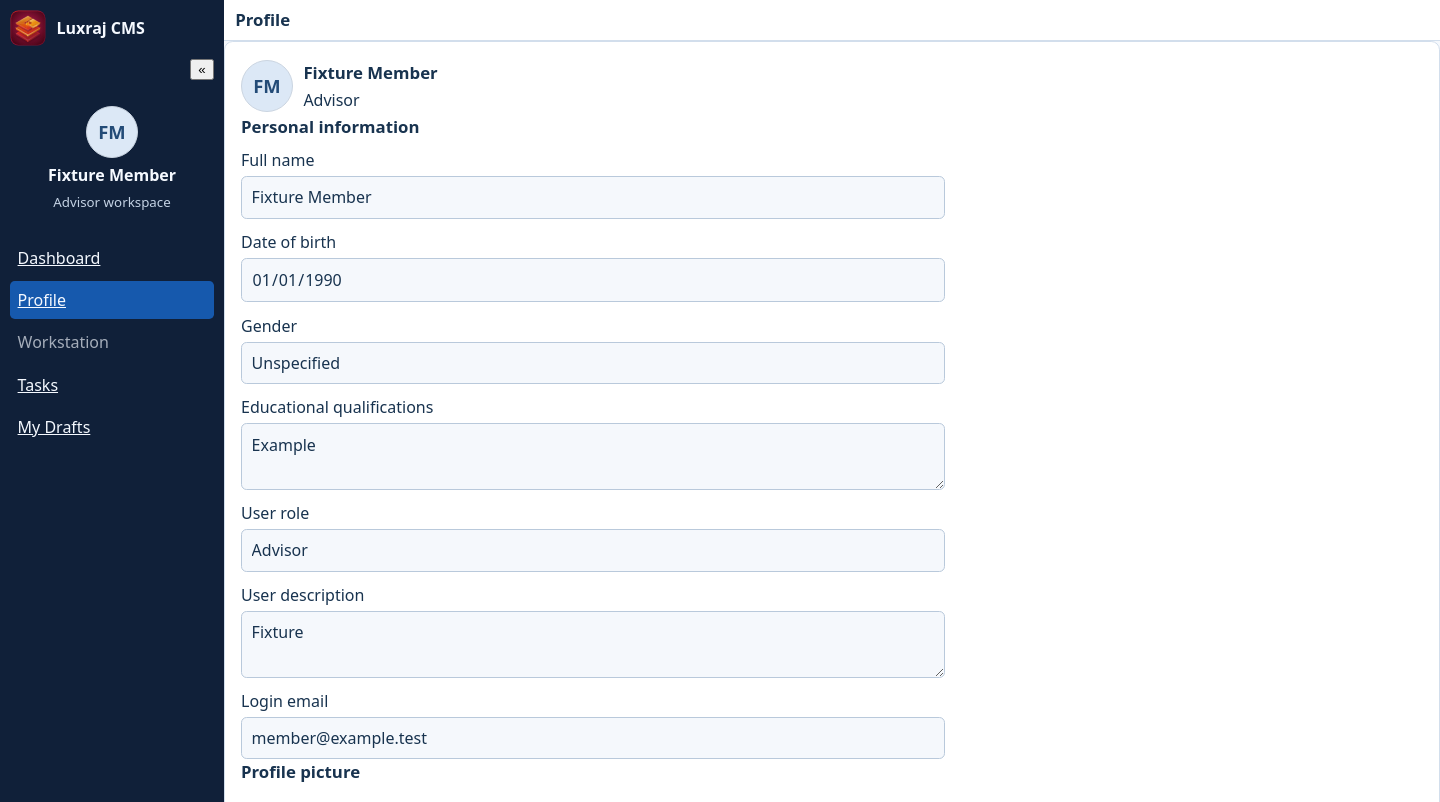
restricted workspace shows read-only profile, disables unassigned workstation and preserves assigned tasks
Expected: the field labelled "User role" holds "Advisor", [241, 529, 945, 572]
Click the link "Tasks": (38, 385) [18, 374, 58, 396]
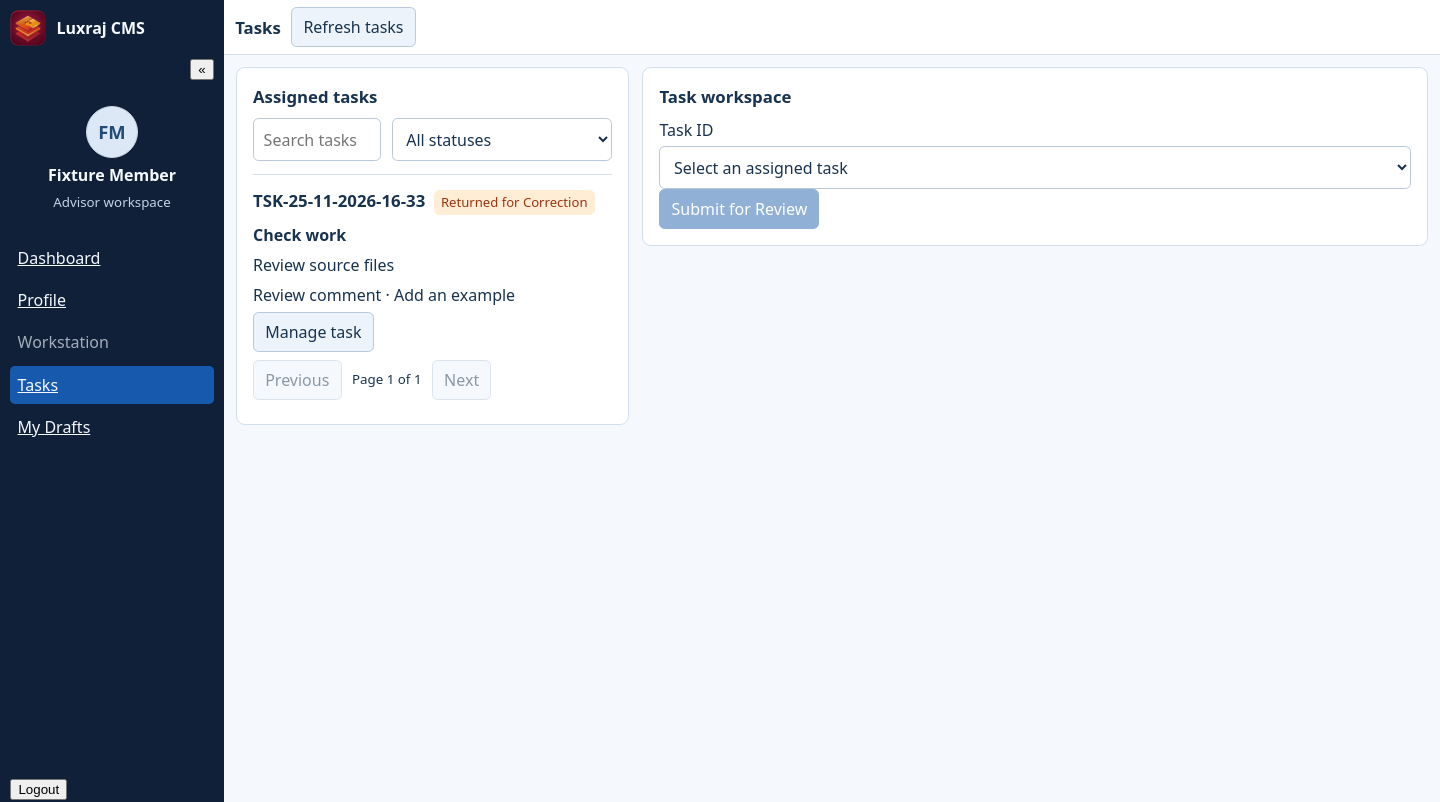
Now the heading "TSK-25-11-2026-16-33 Returned for Correction" is shown, box [253, 188, 612, 214]
Now the button "Submit for Review" is disabled, box [659, 189, 820, 229]
